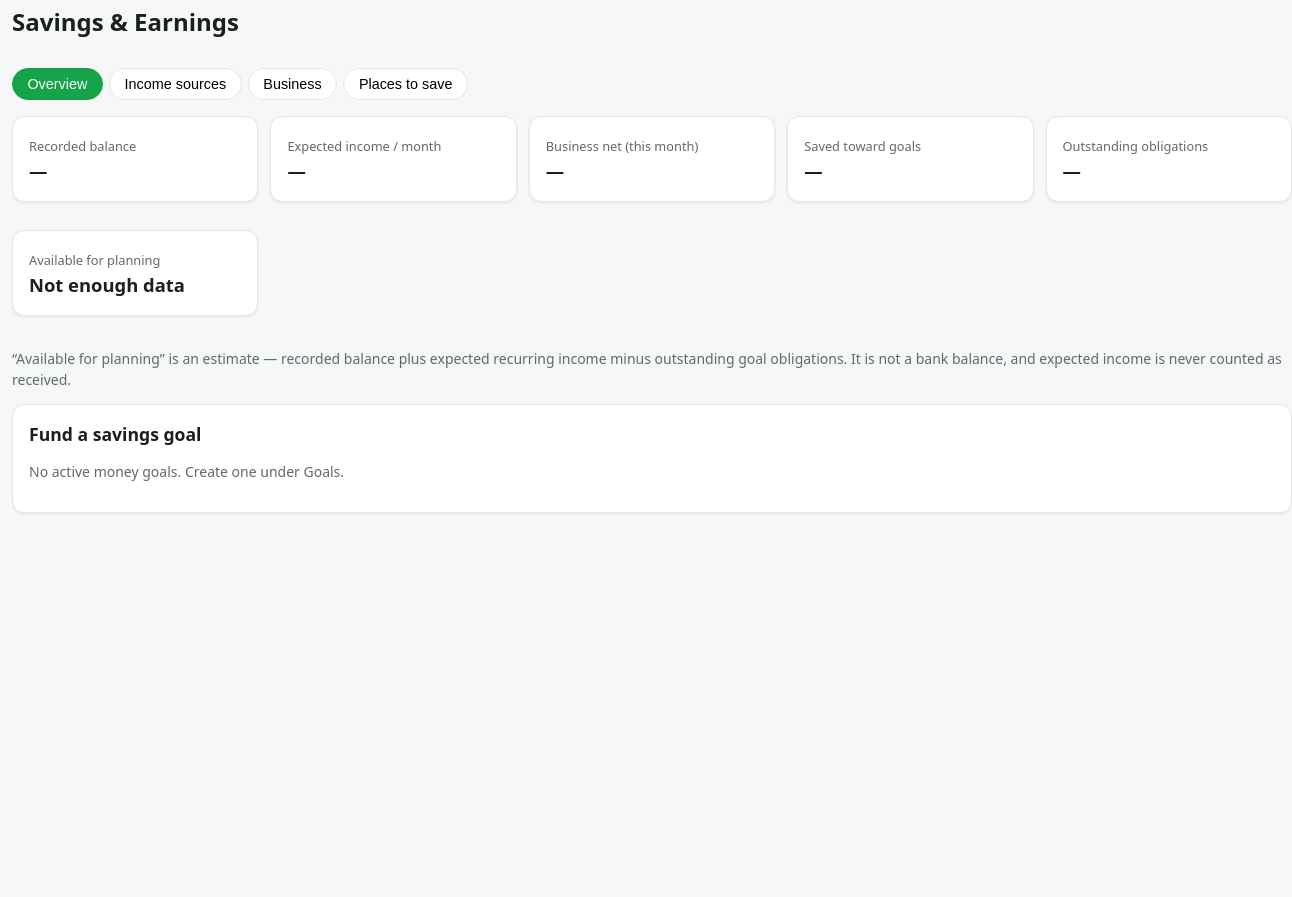
Test: EarningsPage › says so when there is no rate to plan from
Click the tab "Places to save". click: (406, 84)
box: 344,68 -> 468,100
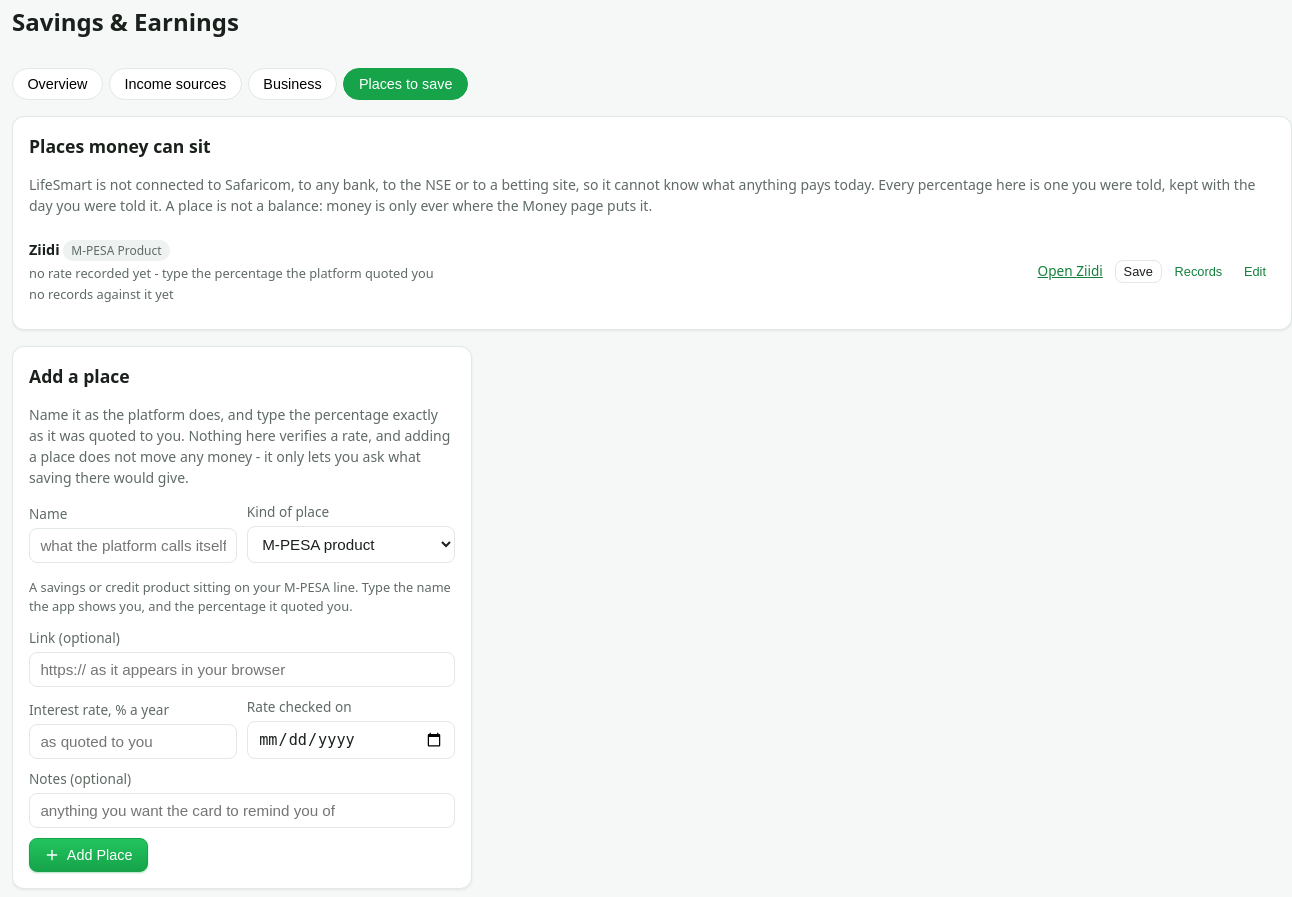
Expected: the text "no rate recorded yet - type the percentage" is shown, 29,264 -> 434,282
Click the button "Save". click: (1138, 272)
box: 1115,260 -> 1162,283
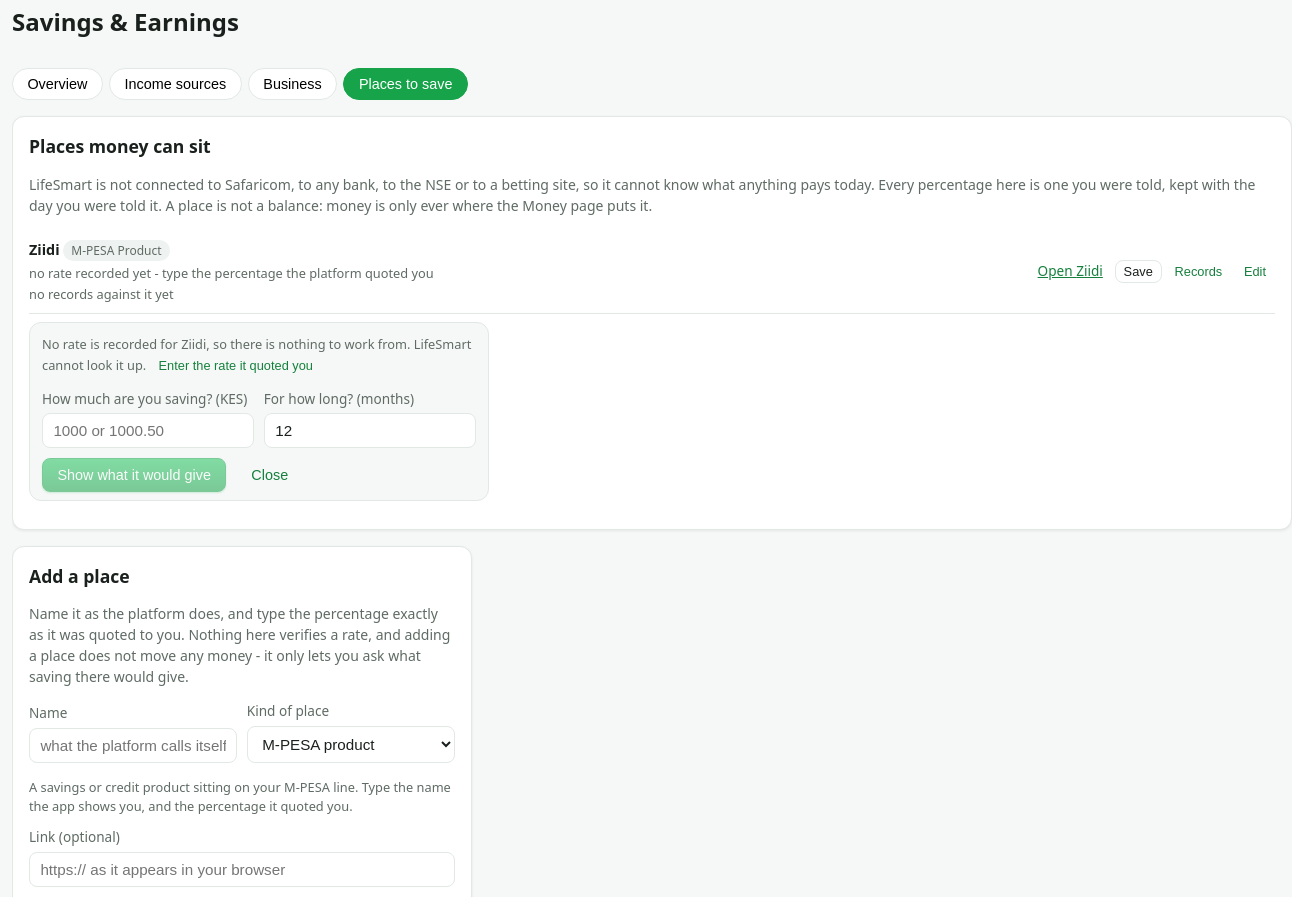
Expected: the text "there is nothing to work from" is shown, 42,335 -> 471,374
Expected: the button "Show what it would give" is disabled, 42,458 -> 226,492
